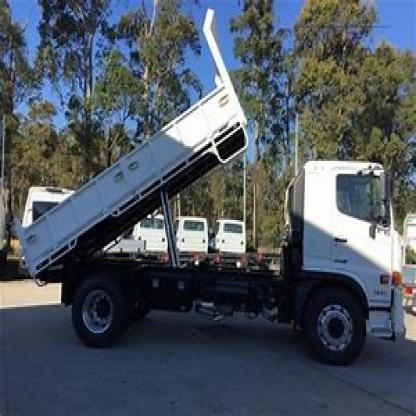dump_truck: (13, 0, 414, 368)
